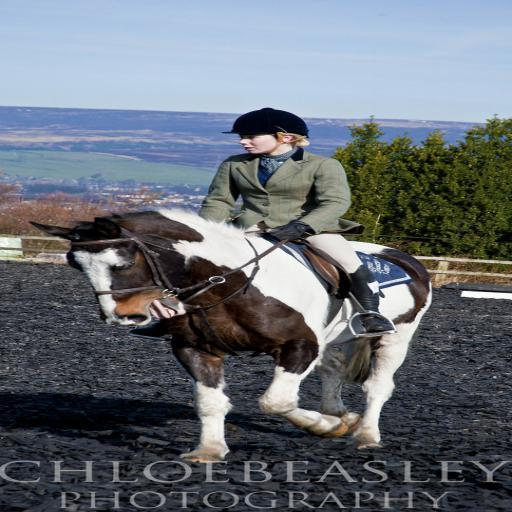horse: (22, 208, 434, 462)
